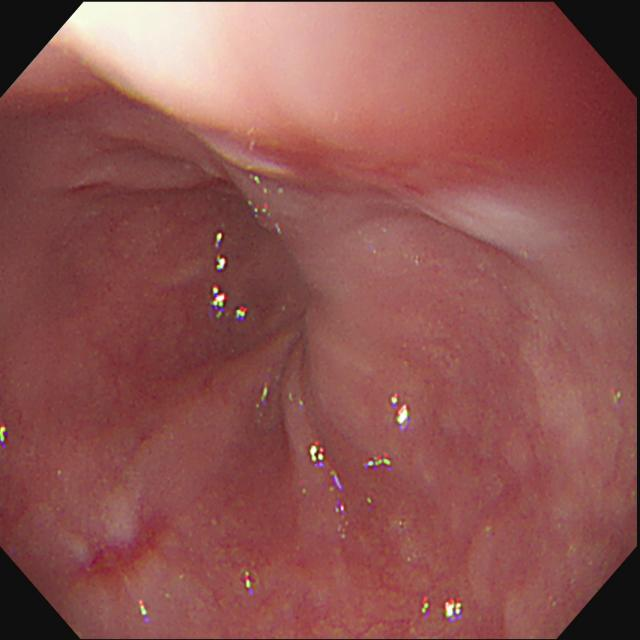C: (84, 506, 188, 587)
U: (210, 228, 230, 320), (389, 392, 412, 432), (442, 595, 464, 624), (309, 438, 329, 469), (365, 453, 397, 471), (235, 303, 250, 324)
